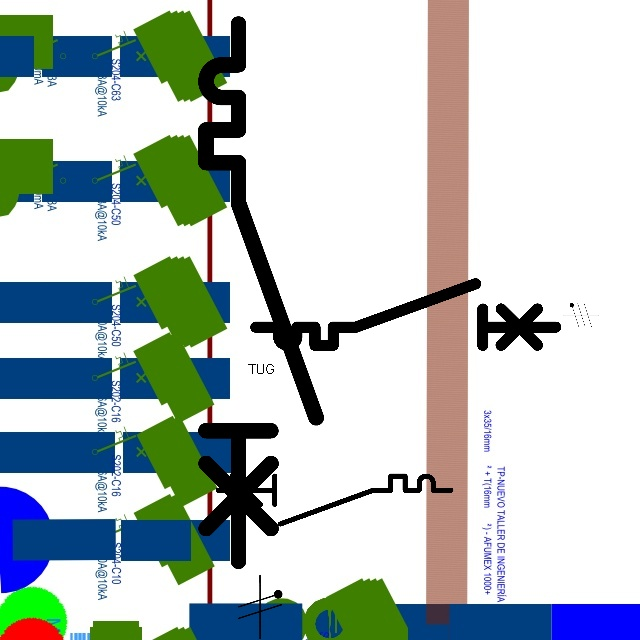interruptor_termomagnetico: (192, 10, 330, 575), (248, 276, 564, 353), (212, 470, 457, 530)
